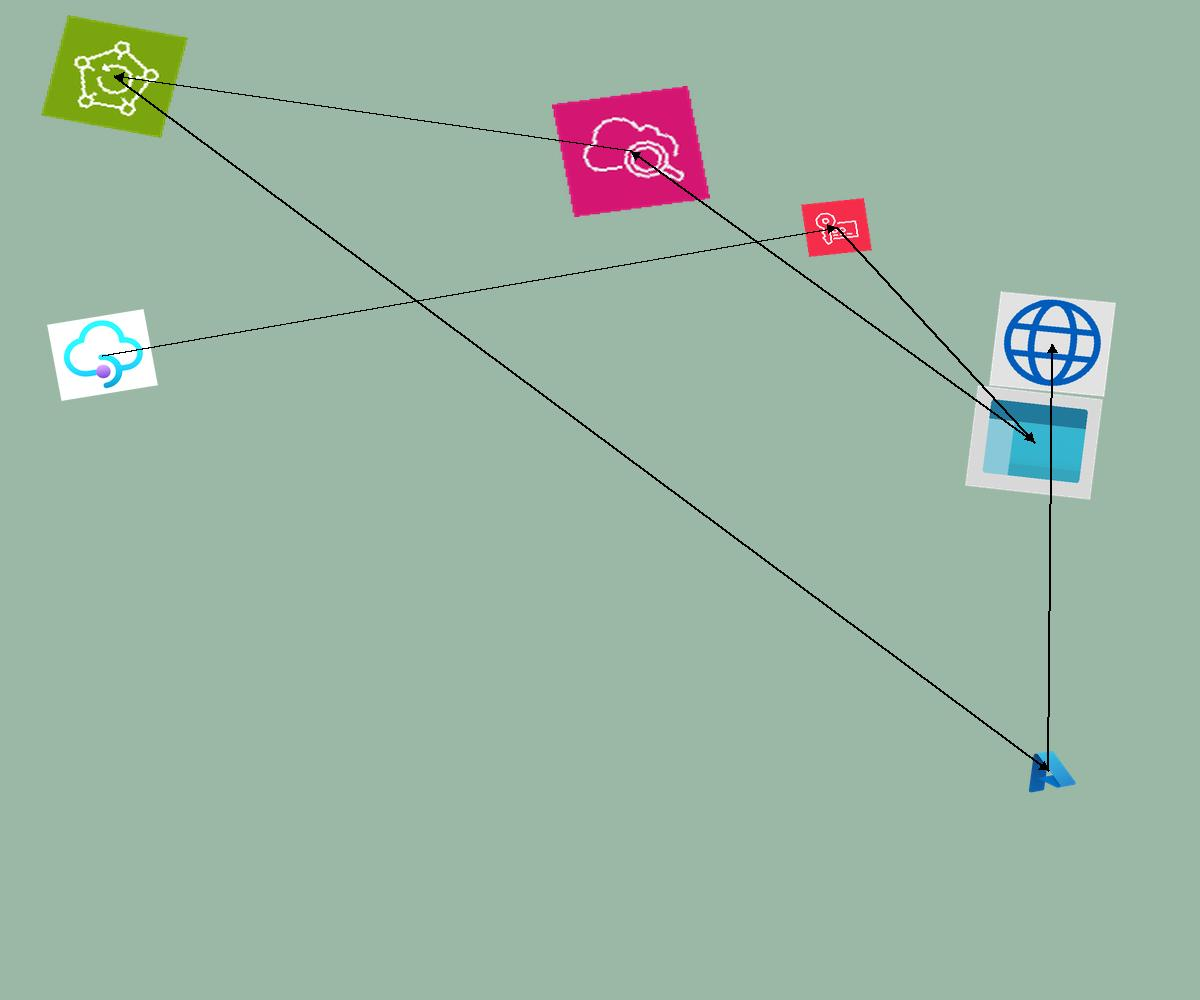AWS-Backup: (41, 15, 188, 138)
AWS-CloudWatch: (552, 86, 710, 217)
AWS-Key-Management-Service: (801, 198, 872, 257)
Azure_api_gateway: (47, 309, 158, 401)
Azure_http: (989, 291, 1116, 397)
Azure_management-portal: (965, 385, 1103, 500)
Azure_services: (1017, 745, 1079, 796)
